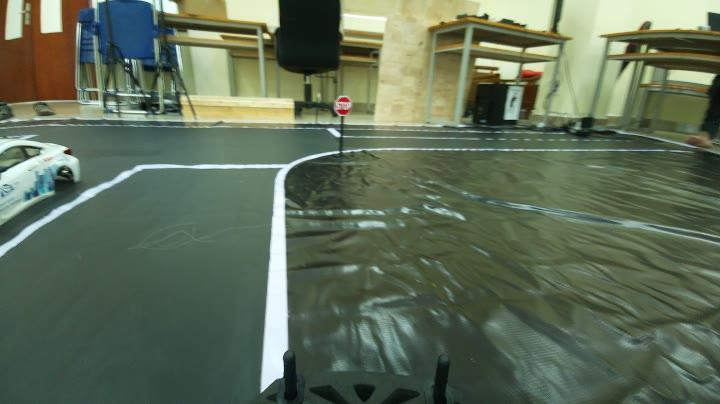stop: (329, 93, 362, 116)
